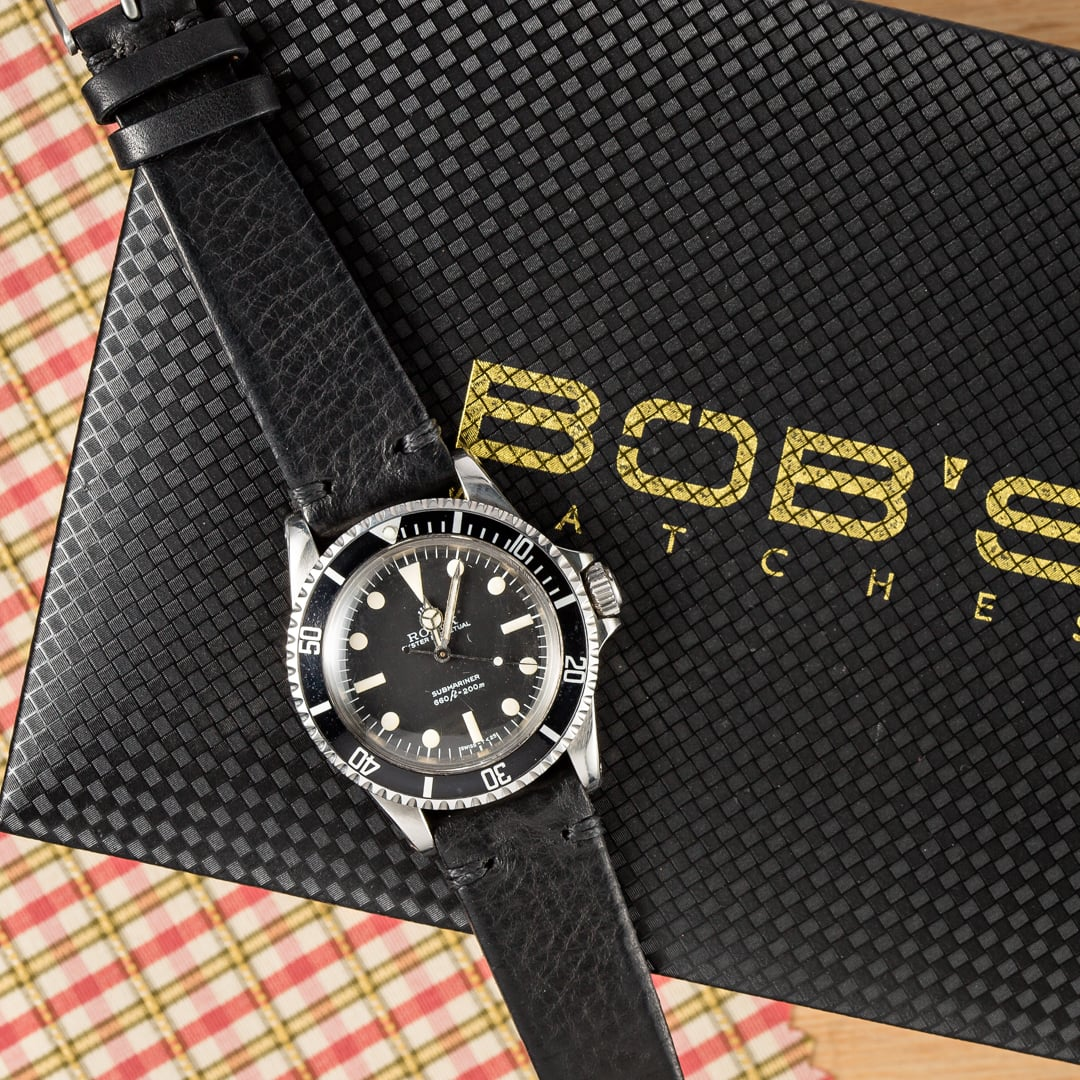clock: (321, 536, 562, 773)
